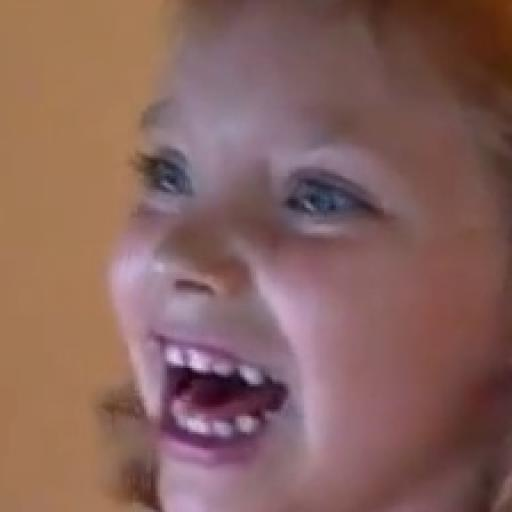Autism: (91, 0, 512, 512)
